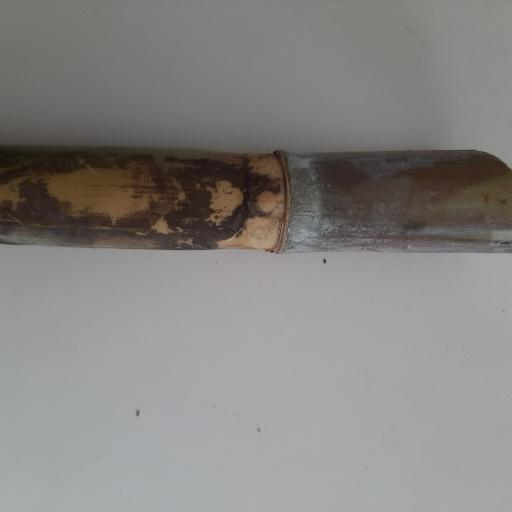Bud: (248, 187, 282, 215)
